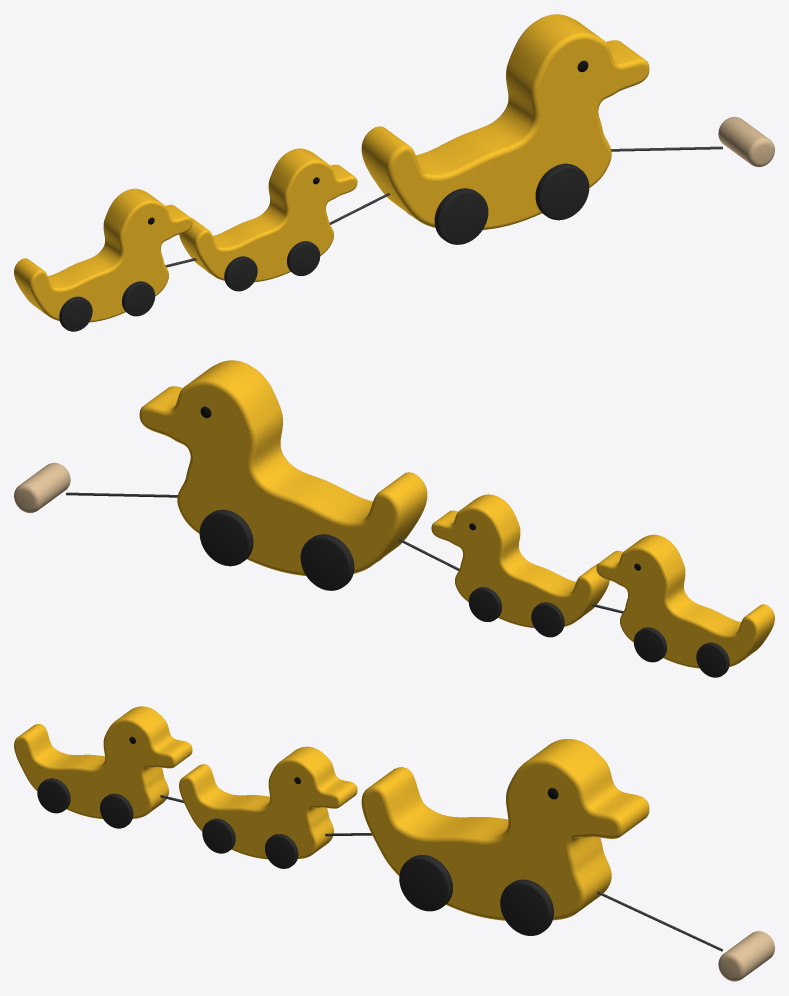
Rendered from pull-ducks.glb.
3 renders of one model, top to bottom at view 1: azimuth 30°, elevation 25°; view 2: azimuth 150°, elevation 25°; view 3: azimuth 330°, elevation 25°, orthographic.
Parts seen in each view (by area): view 1: Pull-along ducks; view 2: Pull-along ducks; view 3: Pull-along ducks.
Boxes of the visible parts, x1=… form: Pull-along ducks: x1=14, y1=14, x2=774, y2=331; Pull-along ducks: x1=14, y1=360, x2=774, y2=677; Pull-along ducks: x1=14, y1=706, x2=774, y2=981.
Size of the model in its own units: 0.7605 by 0.1737 by 0.072.
